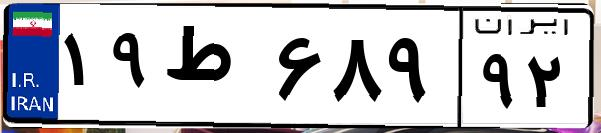1: (57, 26, 110, 100)
2: (525, 38, 570, 115)
6: (270, 28, 330, 110)
8: (330, 28, 385, 110)
9: (385, 28, 445, 110), (475, 38, 525, 113), (110, 28, 158, 98)
ط: (158, 20, 270, 120)
